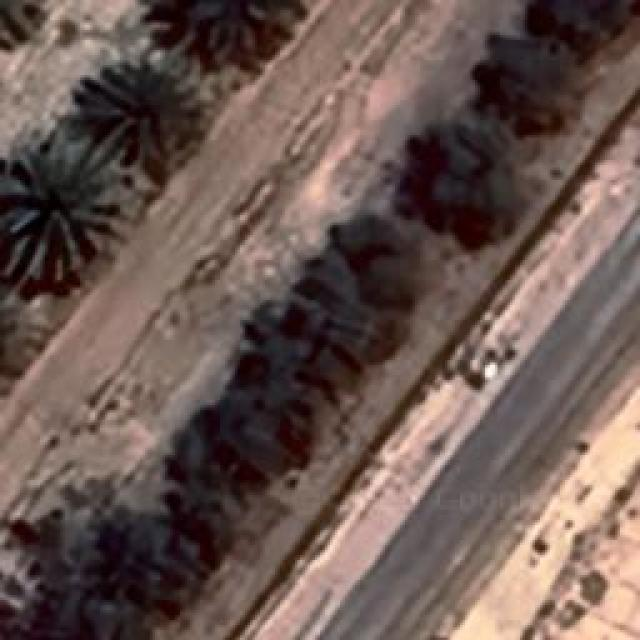PalmTree: (2, 130, 138, 282), (80, 66, 198, 162), (157, 0, 297, 62), (0, 0, 60, 48)
